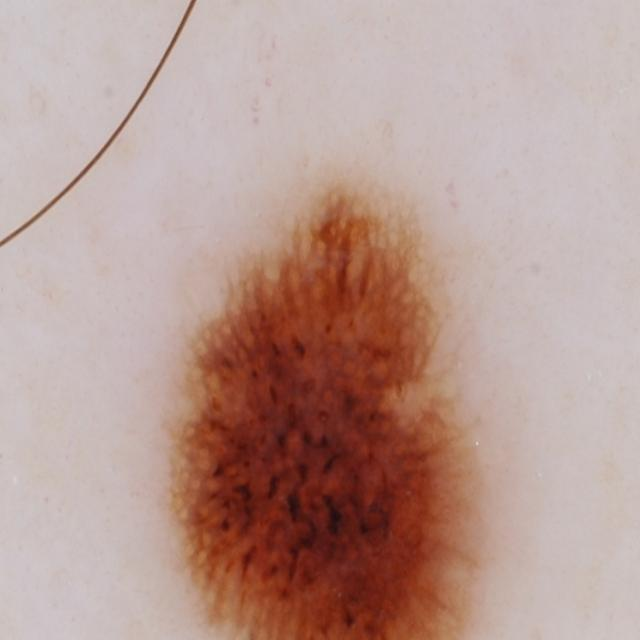Melanoma: (119, 178, 532, 640)
